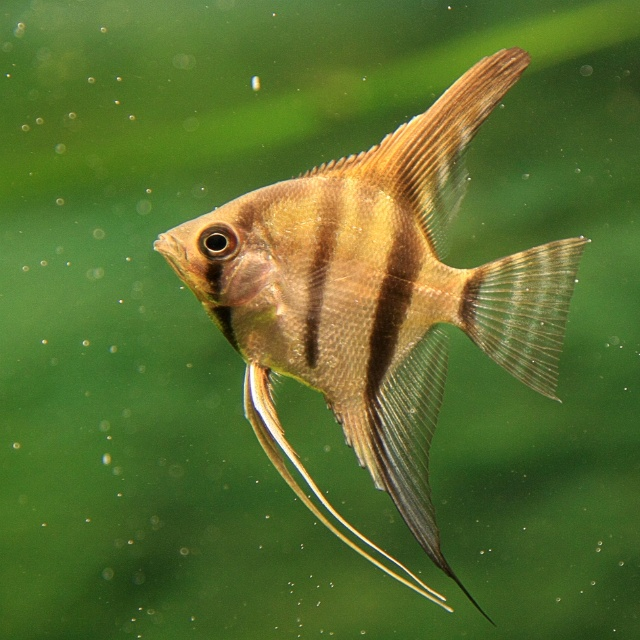Fish: (153, 48, 590, 632)
